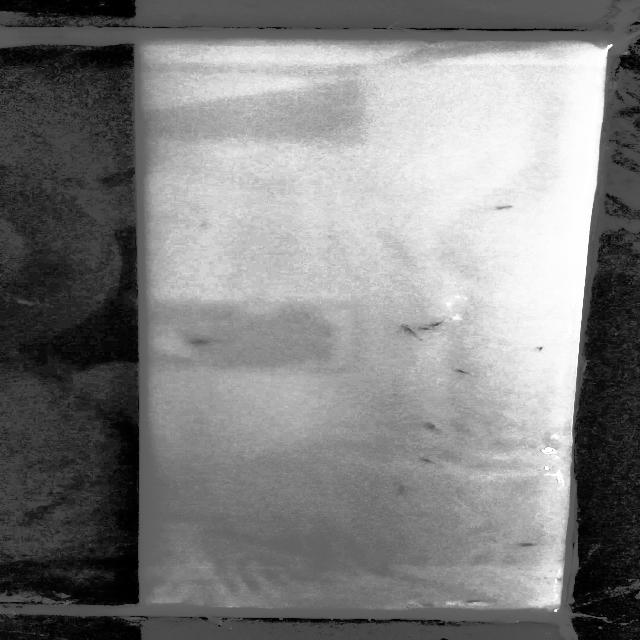shrimp: (504, 534, 550, 556), (179, 332, 222, 352), (411, 453, 440, 469), (418, 420, 443, 434), (401, 322, 417, 339), (452, 365, 472, 375), (420, 324, 433, 333), (428, 321, 442, 329)
